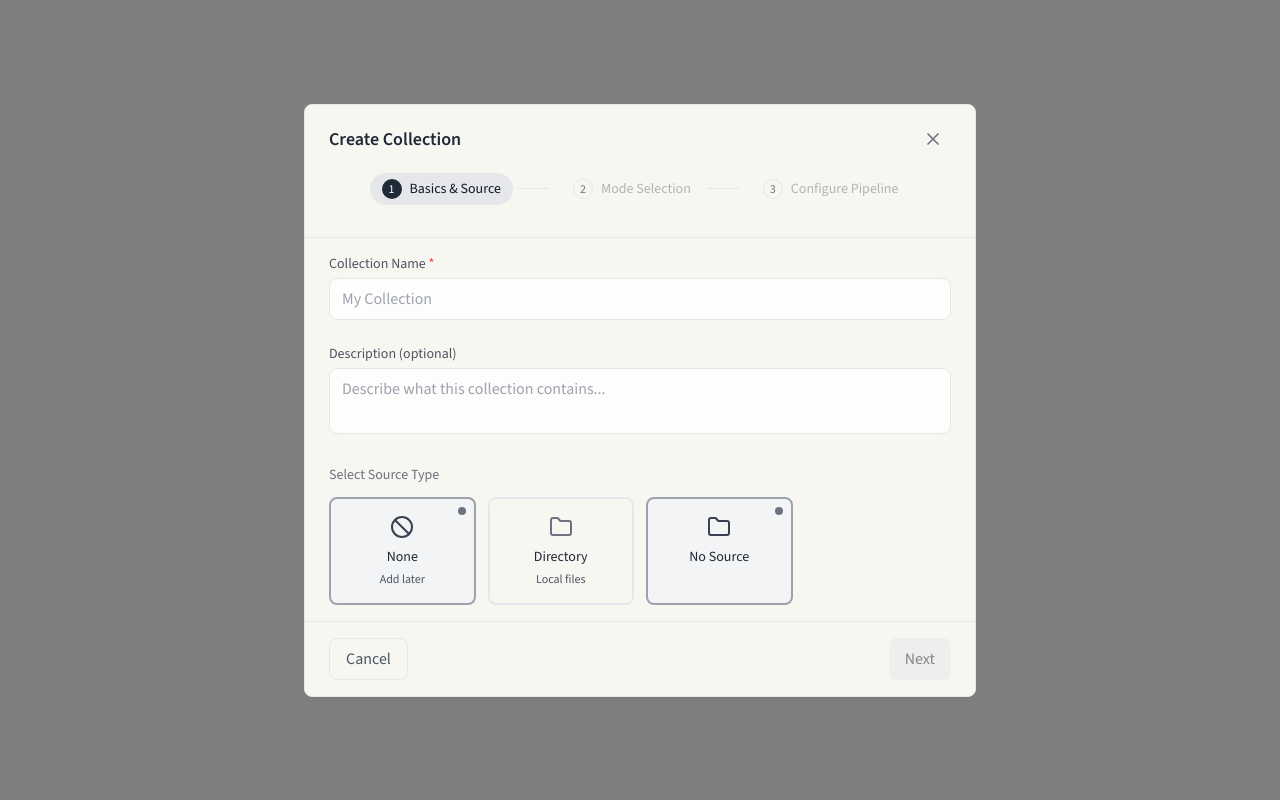
it: CollectionWizard Assisted Flow › creates conversation when entering step 3 in assisted mode
# Fill basics with source
Type "Test Collection" into the field labelled "Collection Name *" at (640, 298), box [329, 278, 951, 320]
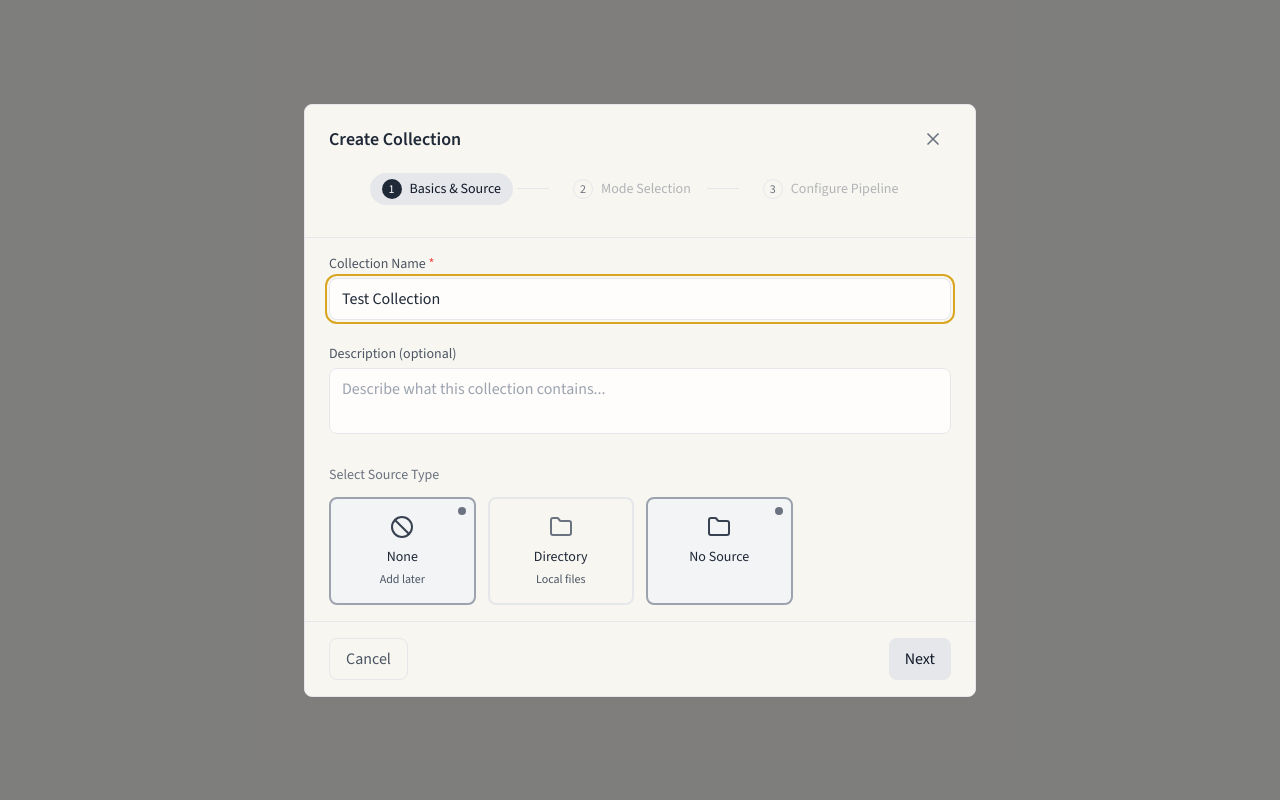
# Select directory source
Click the text "Directory" at (561, 556), box [534, 546, 588, 566]
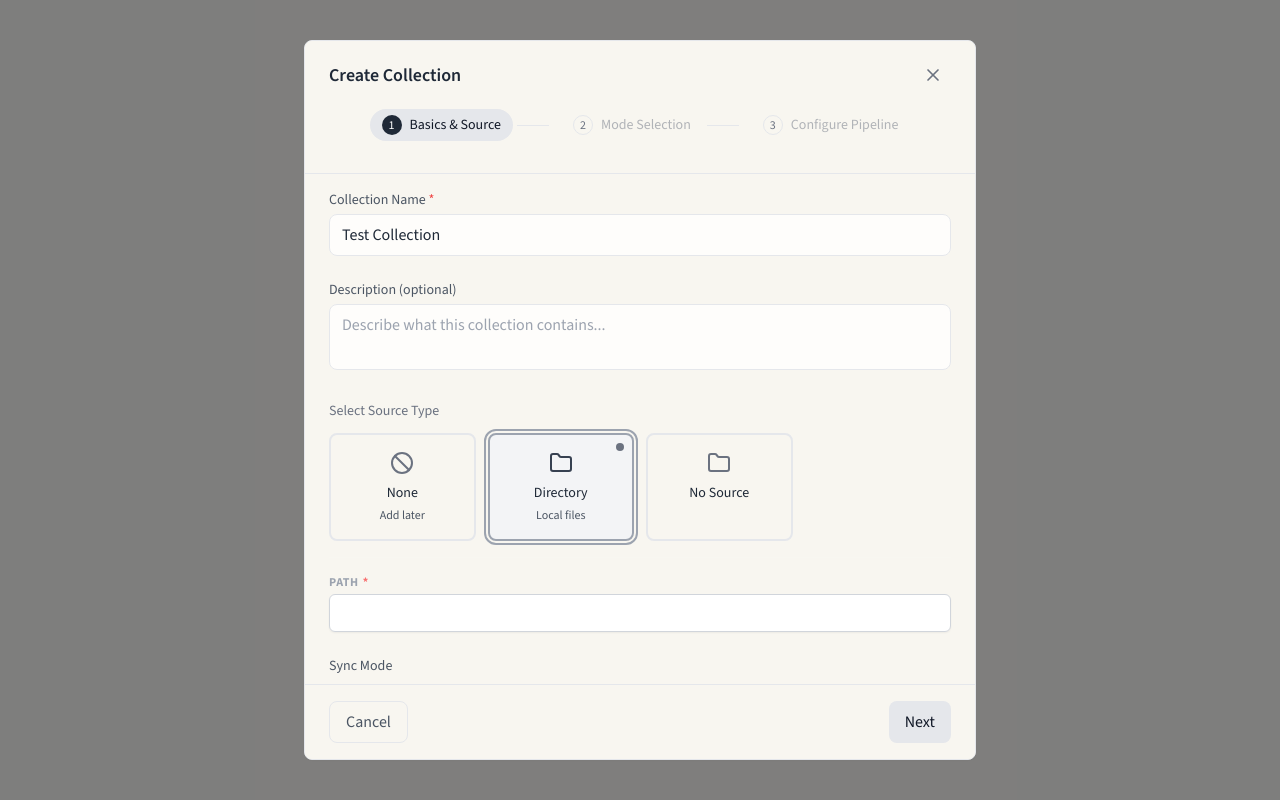
# Fill in path
Type "/home/user/docs" into the field labelled "Path*" at (640, 613), box [329, 594, 951, 632]
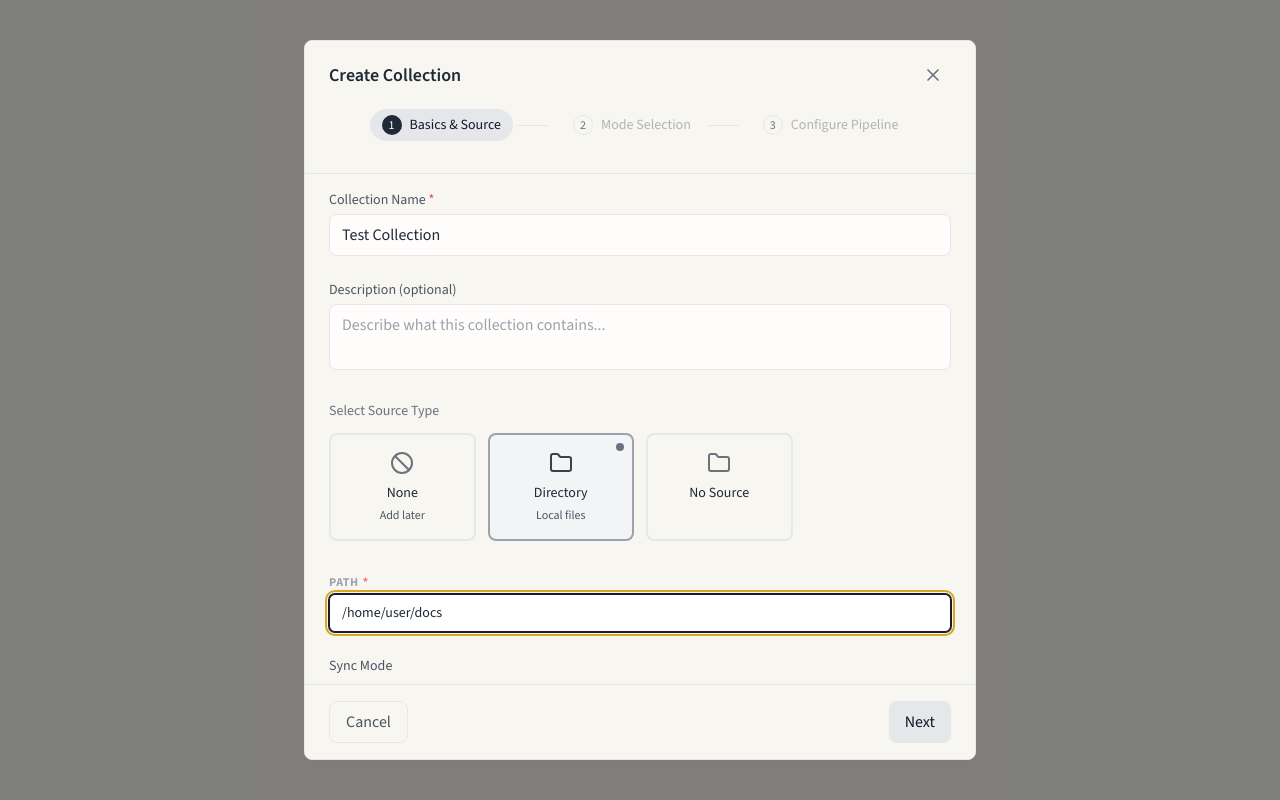
Click the button "Next" at (920, 722), box [889, 701, 951, 743]
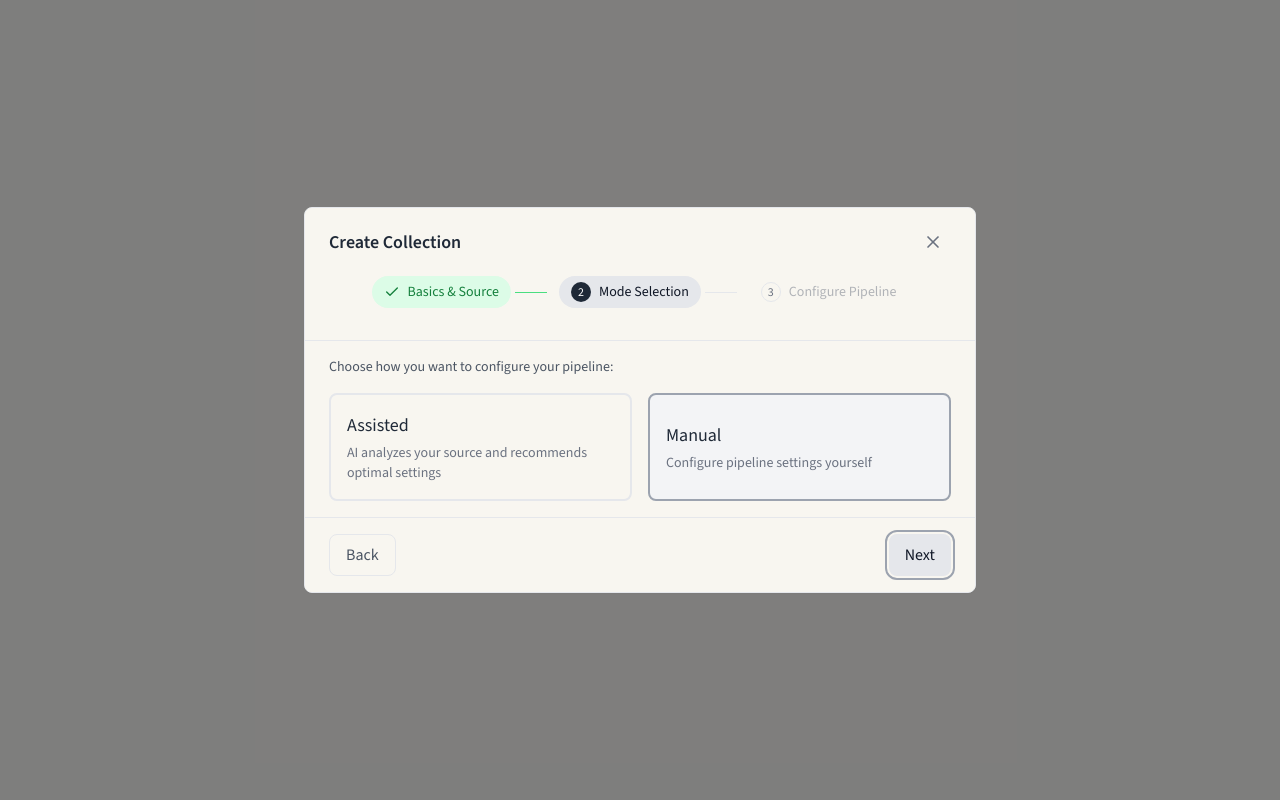
Result: the text "Assisted" is shown at [347, 413, 409, 437]
# Select Assisted mode
Click the button "Assisted" at (480, 447), box [329, 393, 632, 501]
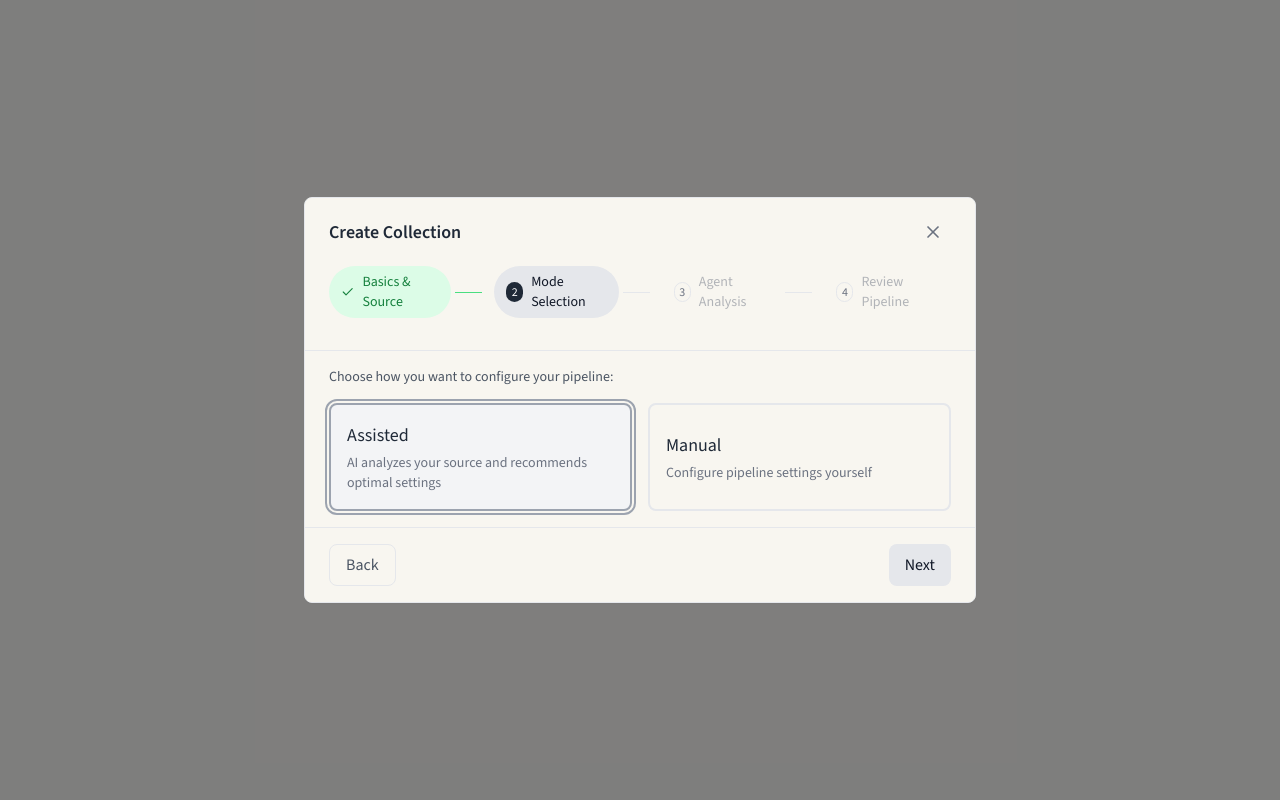
Click the button "Next" at (920, 565), box [889, 544, 951, 586]
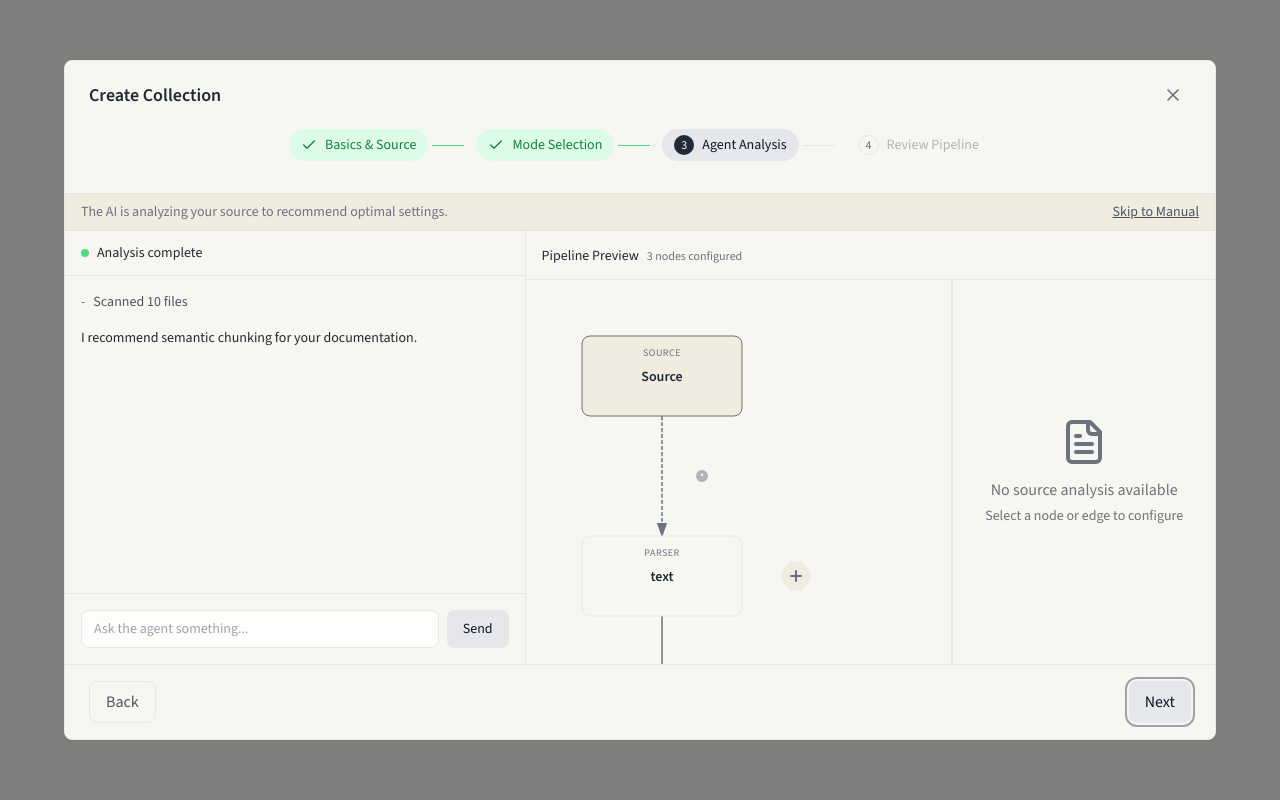
Result: the element with test id "agent-column" is shown at [65, 231, 526, 664]
